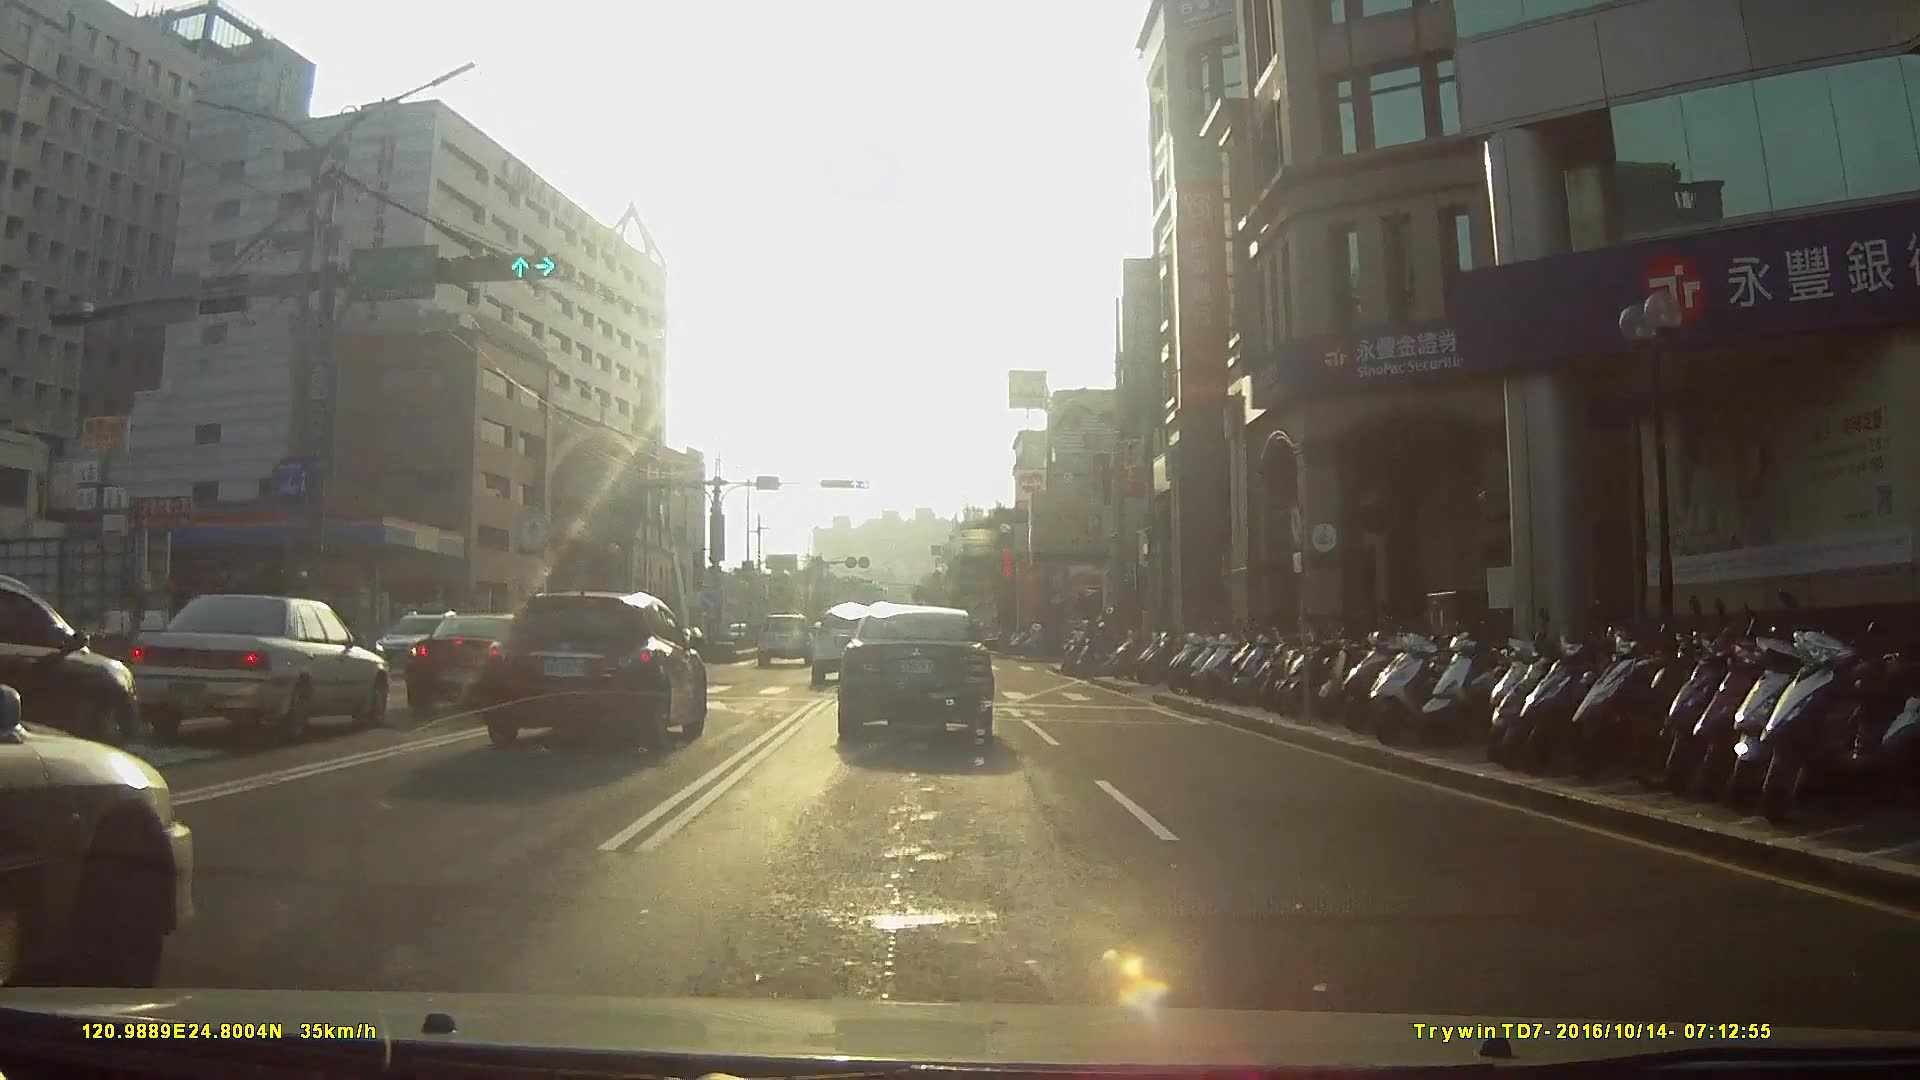rider: (1075, 621, 1136, 677)
vehicle: (1, 647, 199, 1005), (109, 587, 396, 745), (470, 582, 719, 755), (1, 578, 159, 769), (834, 603, 1005, 748), (388, 606, 579, 721), (357, 606, 492, 679), (807, 604, 886, 688), (757, 612, 816, 667)
